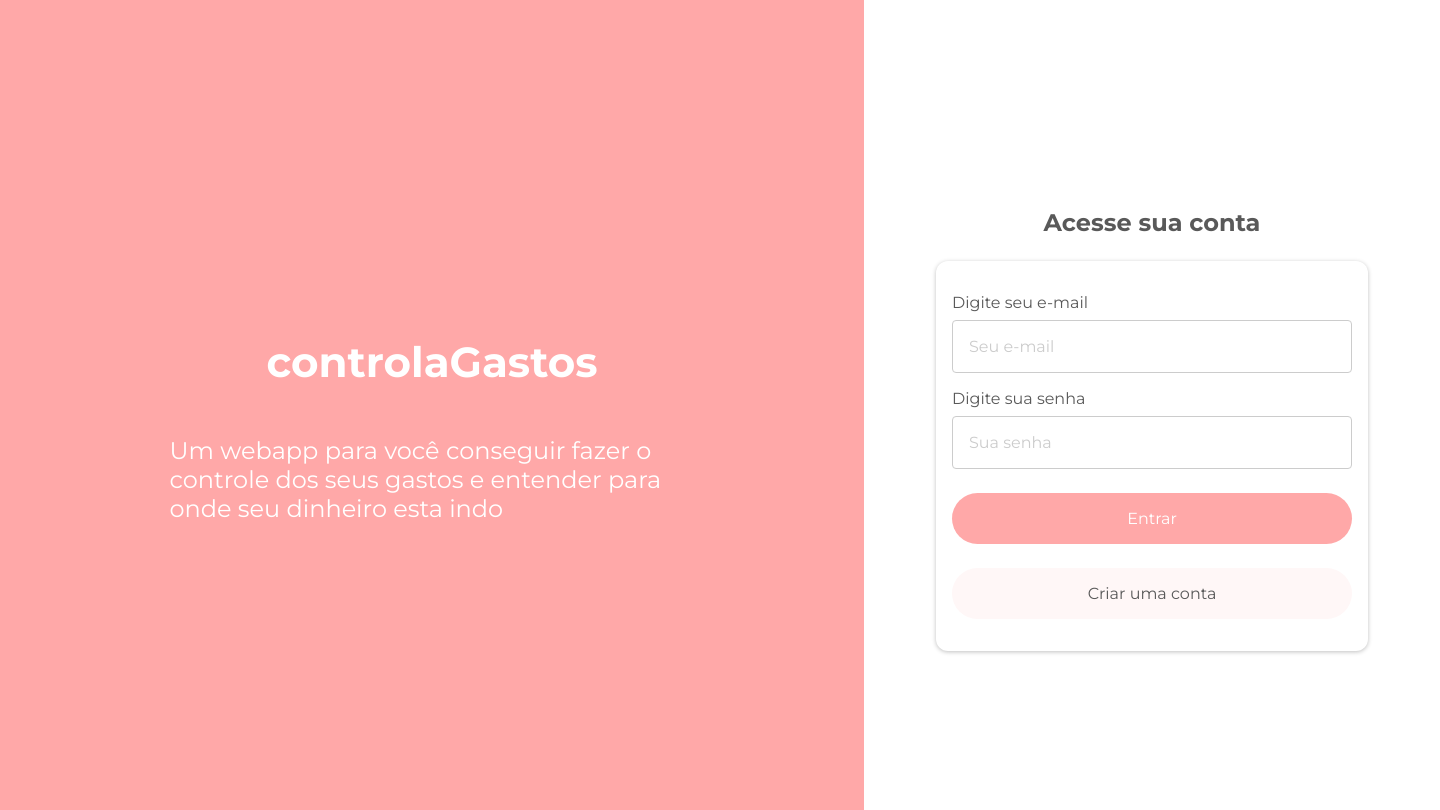
Login page › should return error in both inputs when clicking submit without filling them
Click the button "Entrar". click: (1152,518)
box: [952, 492, 1352, 544]
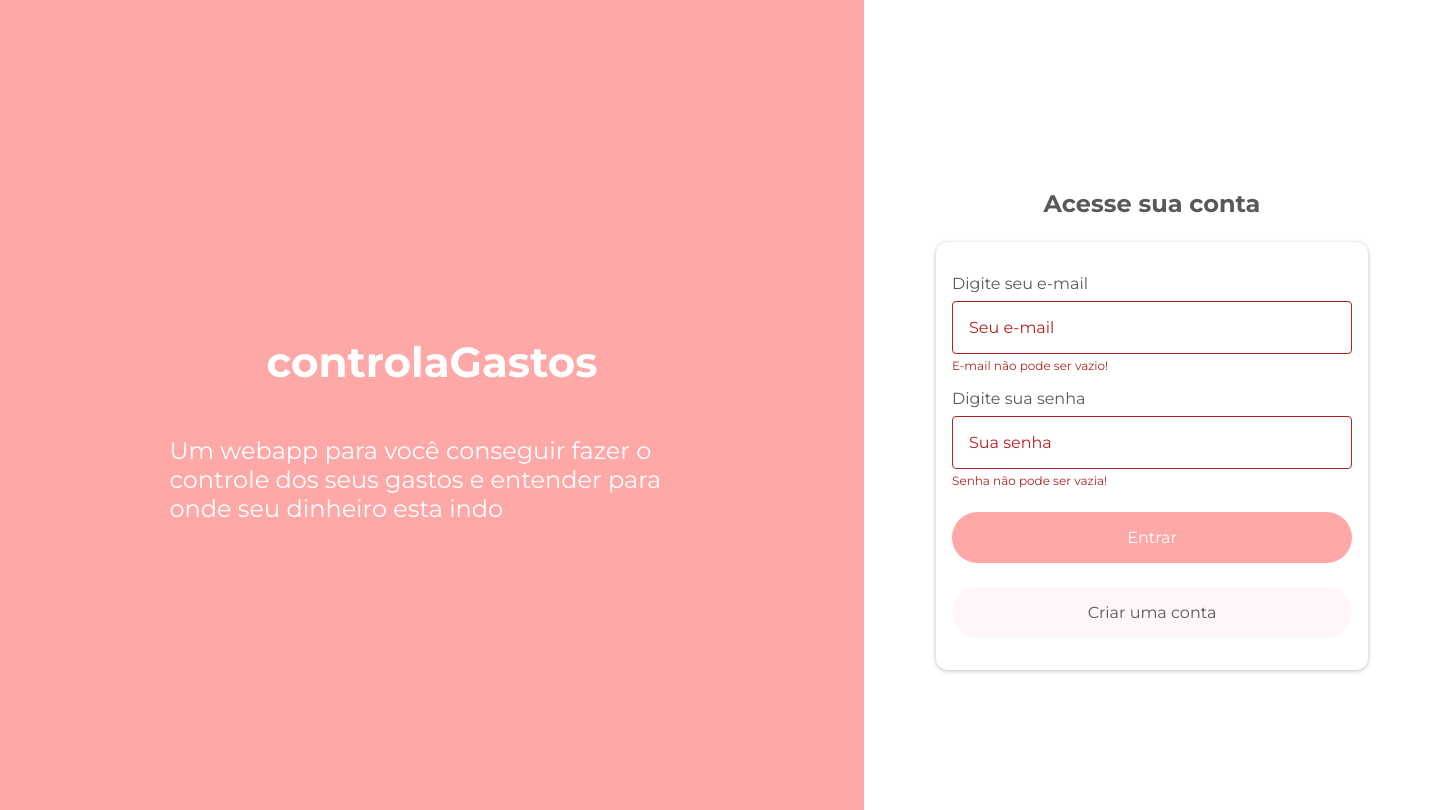
expect the text "E-mail não pode ser vazio!" is shown: met, box [952, 358, 1108, 372]
expect the text "Senha não pode ser vazia!" is shown: met, box [952, 472, 1107, 488]
